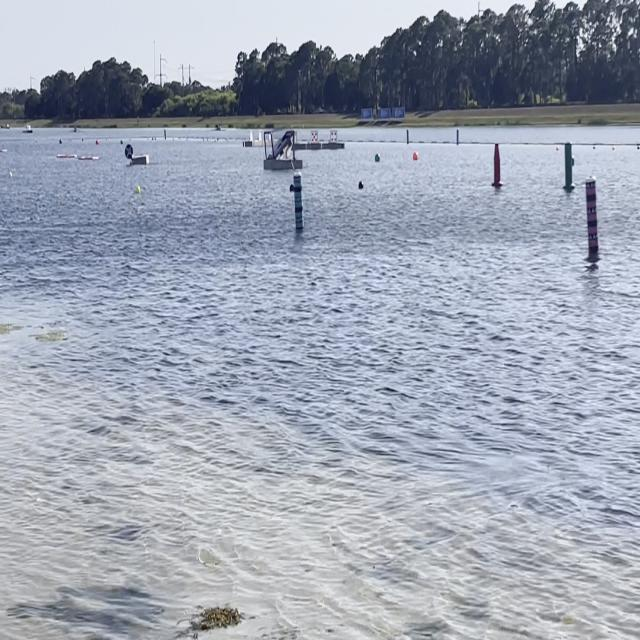buoy: (374, 154, 380, 162), (412, 152, 418, 158)
